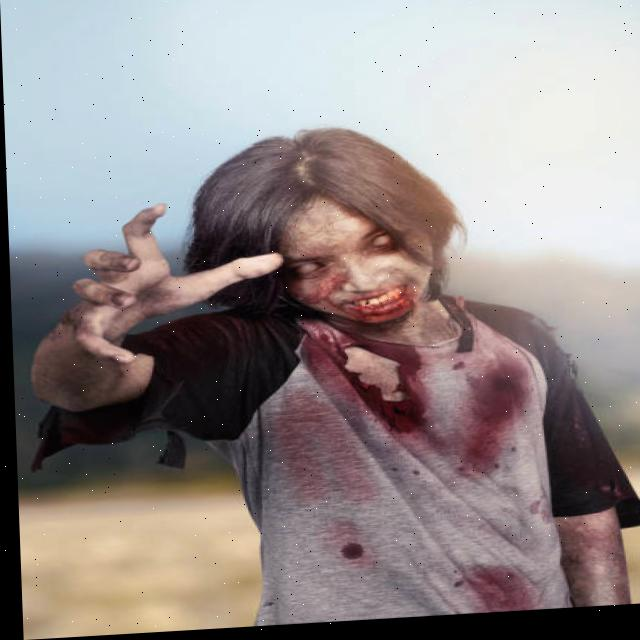Zombie: (197, 152, 455, 333)
